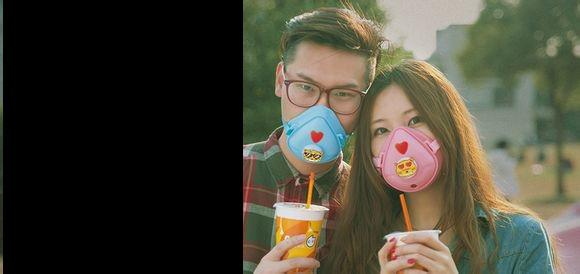OK: (285, 71, 369, 155), (368, 105, 445, 189)
